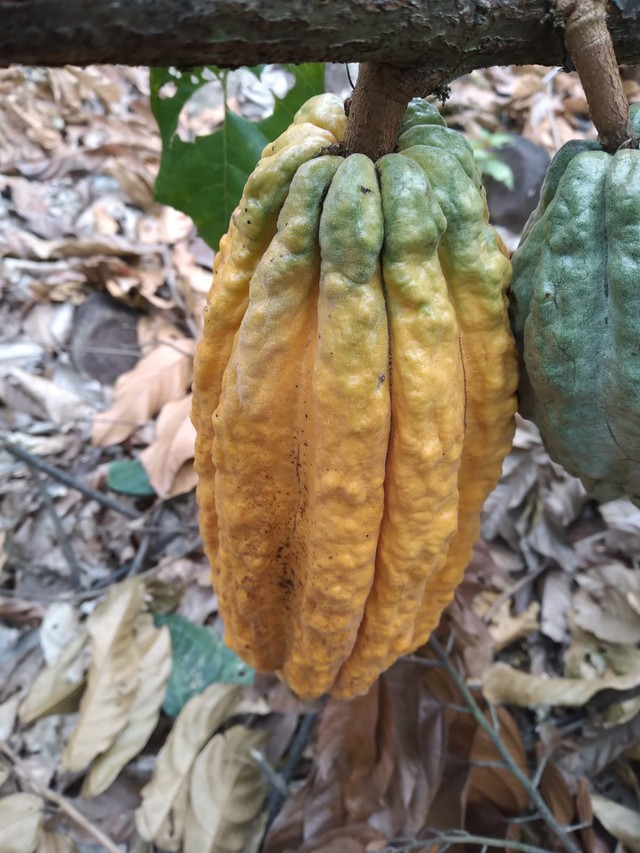Health: (183, 86, 531, 708)
